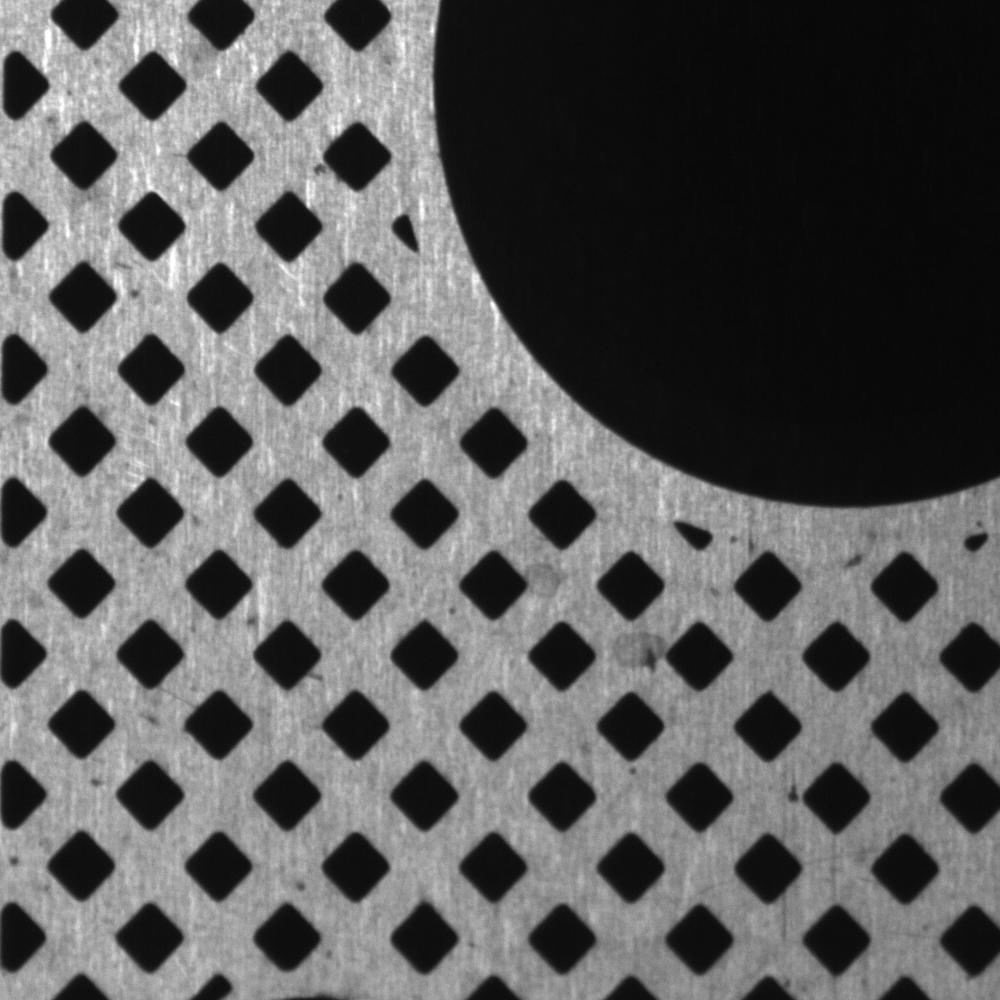Discolor: (611, 626, 668, 673), (520, 557, 564, 604)
Scar: (800, 828, 889, 873), (768, 887, 802, 954), (687, 867, 742, 901), (158, 678, 198, 713)
